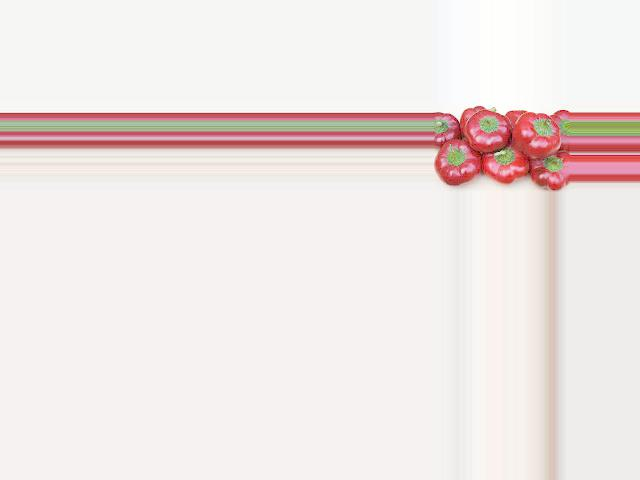bell_pepper: (504, 107, 523, 126)
